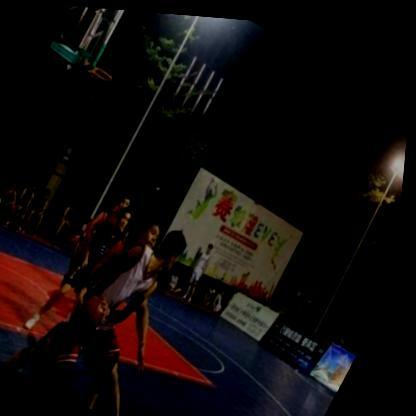basketball: (72, 292, 116, 340)
